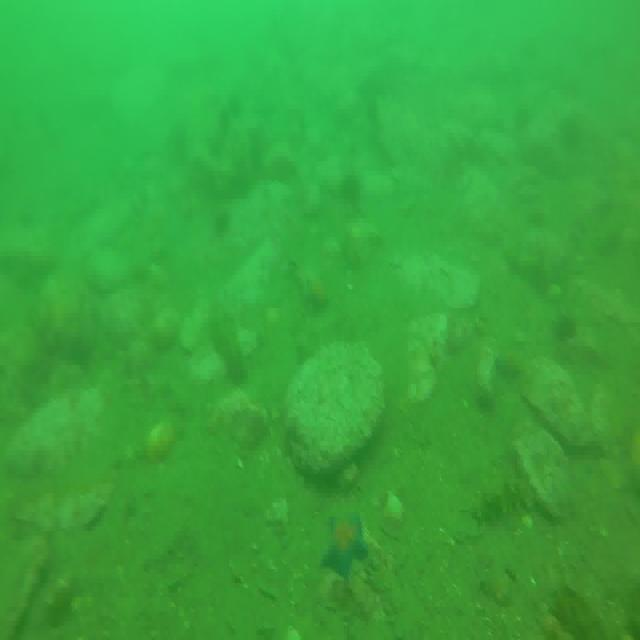echinus: (553, 312, 581, 348)
holothurian: (470, 478, 537, 526)
starfish: (325, 506, 367, 580)
